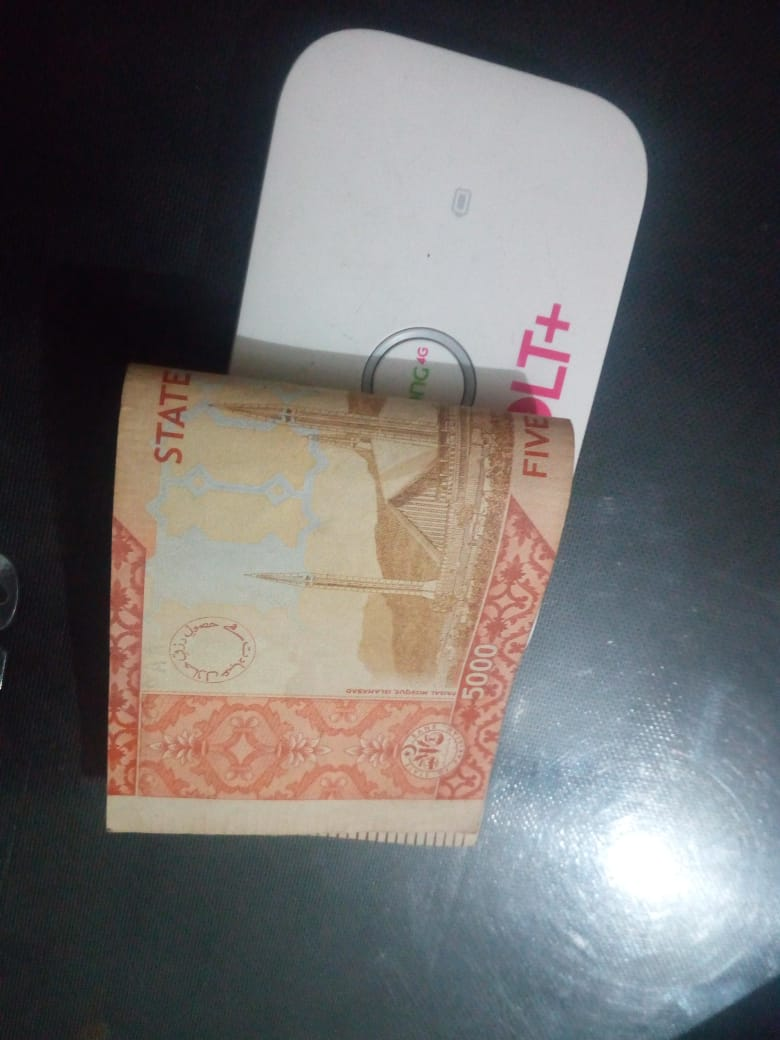5000 rupee: (91, 334, 563, 881)
